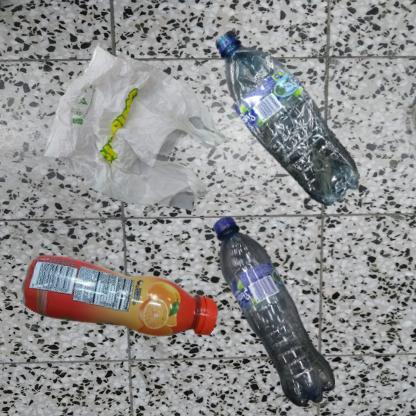bolsa: (10, 10, 268, 275)
botella: (10, 213, 296, 416), (213, 10, 382, 249), (213, 213, 336, 412)
